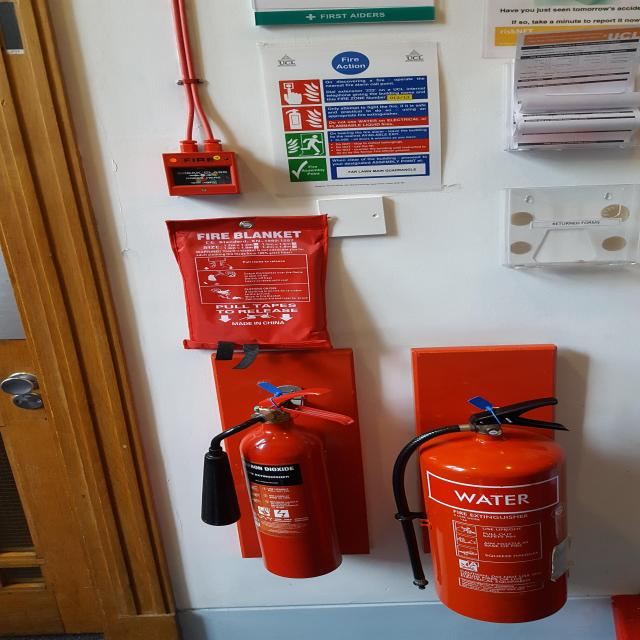fire_extinguisher: (386, 392, 578, 627), (194, 385, 366, 582)
